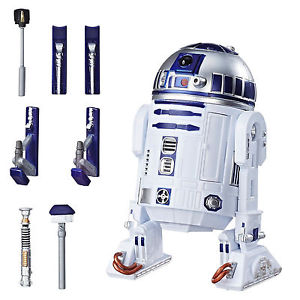r2d2: (117, 41, 281, 289)
